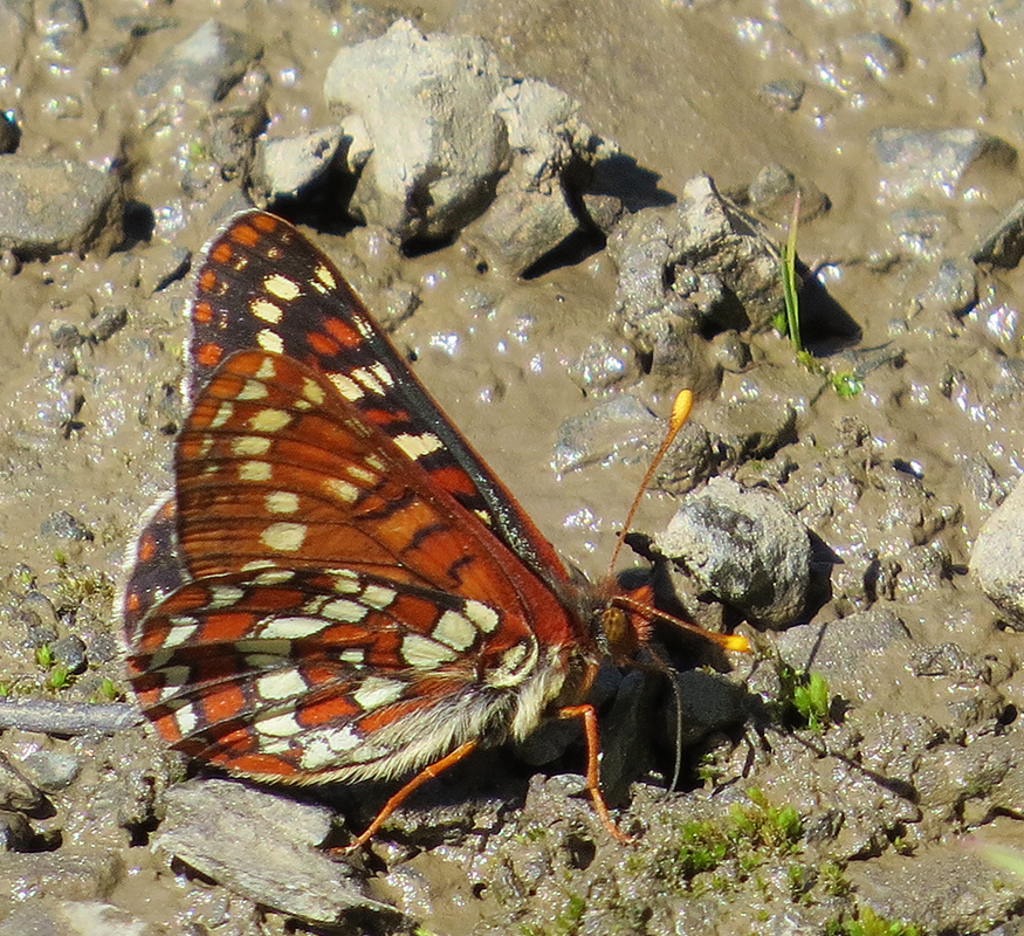Butterfly: (118, 193, 716, 831)
